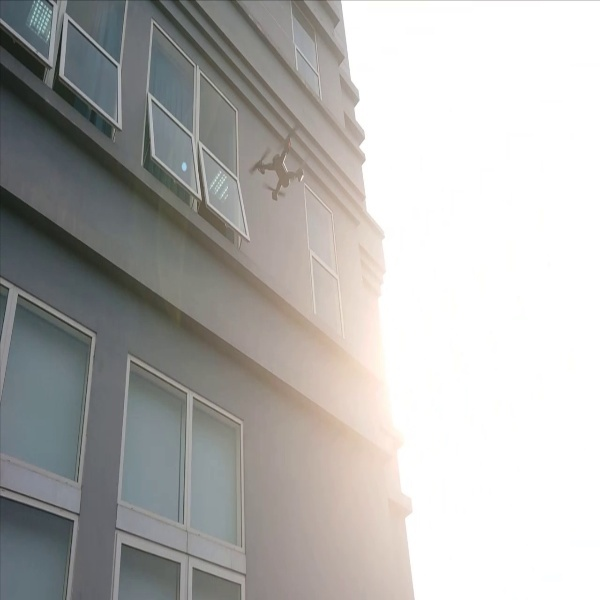drone: (246, 121, 316, 205)
